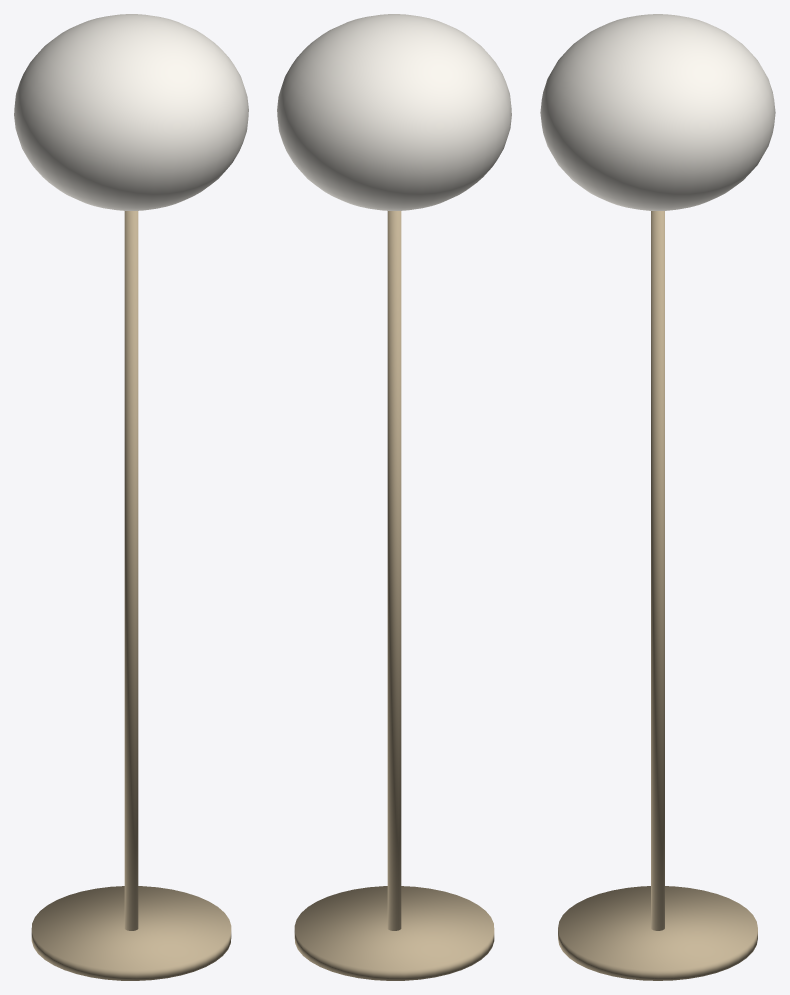
3 views of the same model, side by side, from view 1: azimuth 30°, elevation 25°; view 2: azimuth 150°, elevation 25°; view 3: azimuth 270°, elevation 25° (orthographic).
Parts seen in each view (by area): view 1: floor-lamp-01; view 2: floor-lamp-01; view 3: floor-lamp-01.
Part boxes in pixels (x1=…): floor-lamp-01: x1=14, y1=14, x2=248, y2=980; floor-lamp-01: x1=277, y1=14, x2=511, y2=980; floor-lamp-01: x1=540, y1=14, x2=775, y2=980.
Bounding box in the file's own units: 0.4 × 1.71 × 0.4.
